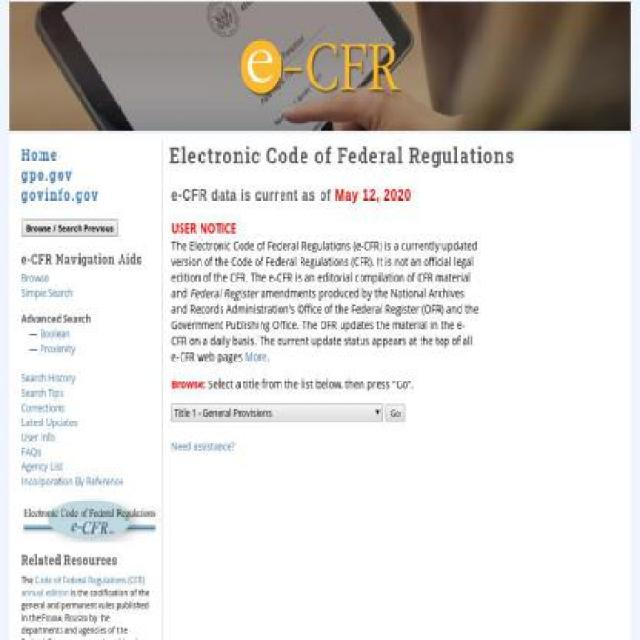field: (171, 403, 383, 423), (22, 219, 118, 238), (386, 404, 405, 422)
